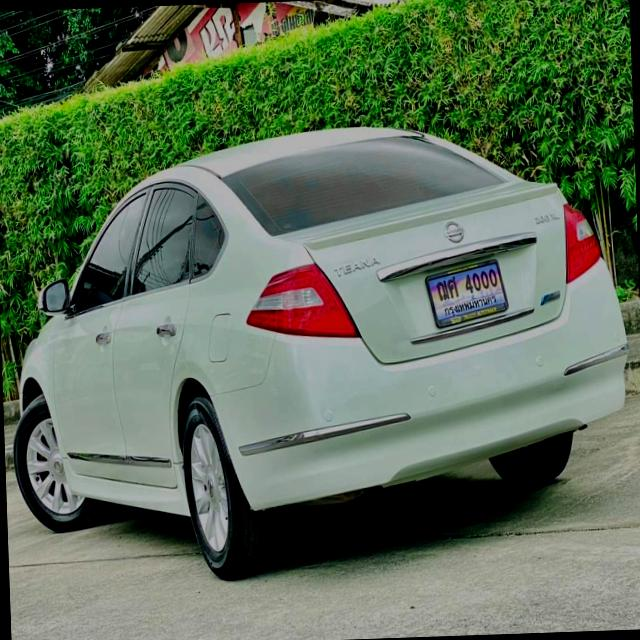license_plate: (424, 258, 508, 332)
